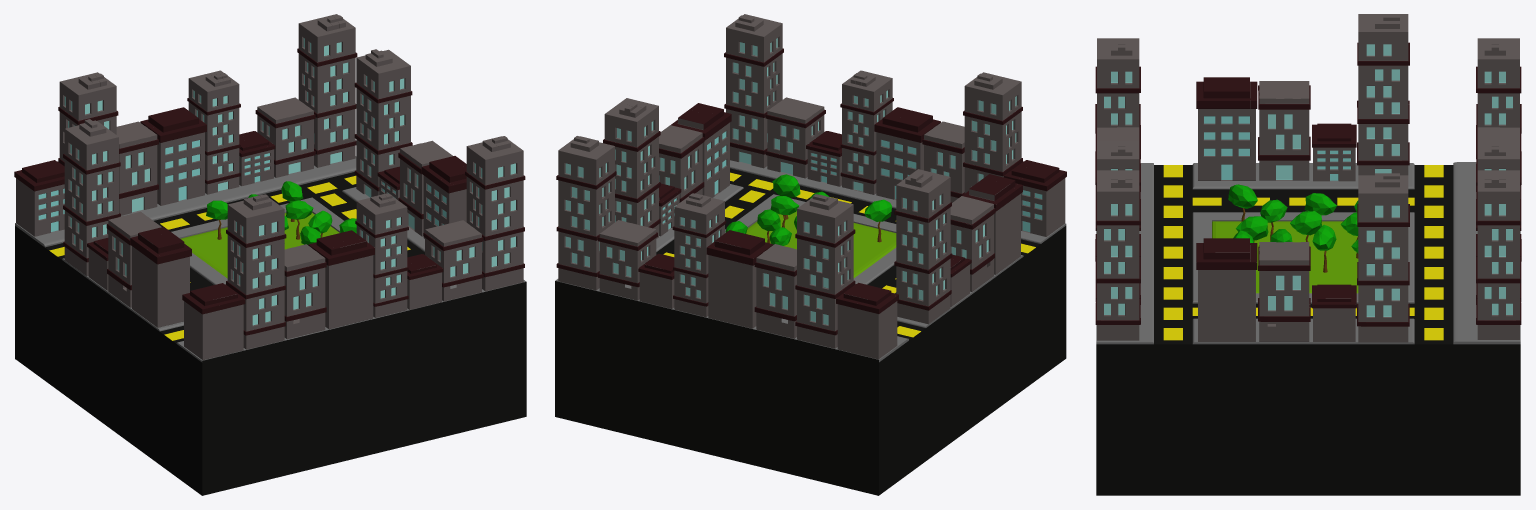
The model's file is La gran ciudad GLB.glb.
3 renders of one model, left to right at view 1: azimuth 30°, elevation 25°; view 2: azimuth 150°, elevation 25°; view 3: azimuth 270°, elevation 25°, orthographic. The views are drawn at different scales.
Visible parts, largest first — view 1: Piso, Cube.007, Cube.004, Cube.013, Cube.024, Cube.009, Cube.021, Cube.002, Cube.016, Cube.005, Cube.017, Cube.008 (+13 smaller); view 2: Piso, Cube.024, Cube.019, Cube.013, Cube.004, Cube.009, Cube.007, Cube.002, Cube.016, Cube.017, Cube.020, Cube.005 (+13 smaller); view 3: Piso, Cube.009, Cube.024, Cube.004, Cube.013, Cube.021, Cube.012, Cube.022, Cube.011, Cube.007, Cube.019, Cube.023 (+11 smaller).
Part boxes in pixels (<box>): Piso: <box>15,156,526,495</box>; Cube.007: <box>226,194,286,349</box>; Cube.004: <box>465,136,525,291</box>; Cube.013: <box>297,14,357,167</box>; Cube.024: <box>63,119,120,275</box>; Cube.009: <box>354,49,412,197</box>; Cube.021: <box>130,227,191,327</box>; Cube.002: <box>355,193,408,317</box>; Cube.016: <box>187,70,240,194</box>; Cube.005: <box>308,230,374,329</box>; Cube.017: <box>140,107,206,205</box>; Cube.008: <box>182,283,245,360</box>; Piso: <box>555,160,1066,495</box>; Cube.024: <box>894,169,952,324</box>; Cube.019: <box>795,194,855,348</box>; Cube.013: <box>556,136,616,290</box>; Cube.004: <box>724,14,783,168</box>; Cube.009: <box>603,98,660,238</box>; Cube.007: <box>963,72,1022,193</box>; Cube.002: <box>840,70,893,194</box>; Cube.016: <box>672,193,726,317</box>; Cube.017: <box>706,230,773,328</box>; Cube.020: <box>836,282,898,359</box>; Cube.005: <box>874,107,940,199</box>; Piso: <box>1096,162,1520,495</box>; Cube.009: <box>1357,173,1409,342</box>; Cube.024: <box>1357,14,1409,175</box>; Cube.004: <box>1095,170,1140,340</box>; Cube.013: <box>1476,170,1521,339</box>; Cube.021: <box>1196,77,1257,180</box>; Cube.012: <box>1196,238,1257,341</box>; Cube.022: <box>1258,81,1310,180</box>; Cube.011: <box>1258,242,1310,341</box>; Cube.007: <box>1095,38,1140,191</box>; Cube.019: <box>1476,38,1521,191</box>; Cube.023: <box>1312,123,1356,181</box>.
Size of the model in its own units: 20.12 by 16.16 by 20.08.
